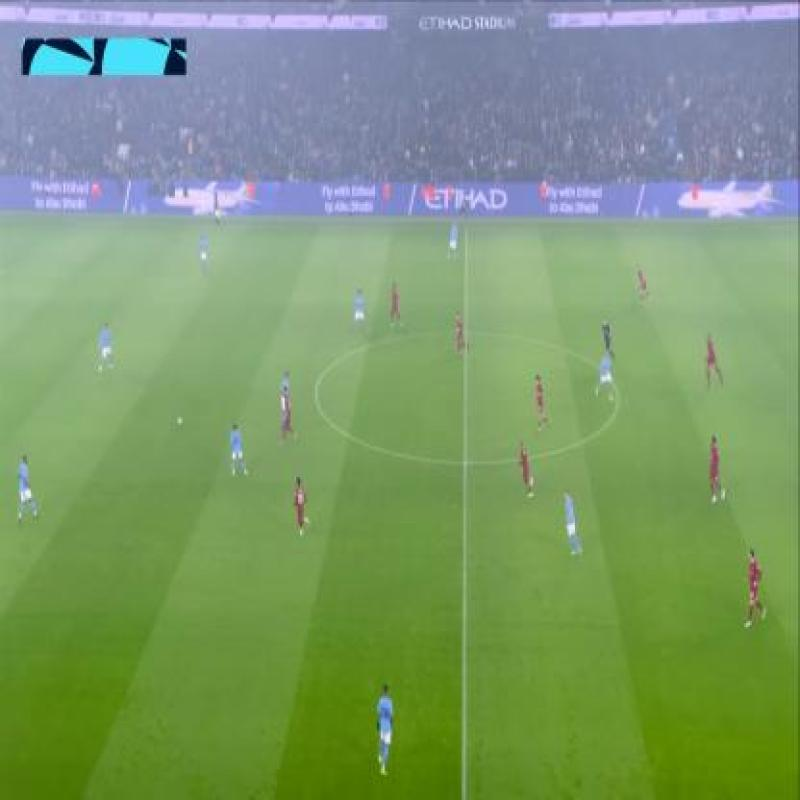13: (460, 219, 474, 239)
14: (462, 322, 472, 340)
15: (456, 444, 477, 481)
c: (610, 388, 628, 410), (307, 378, 324, 398)
